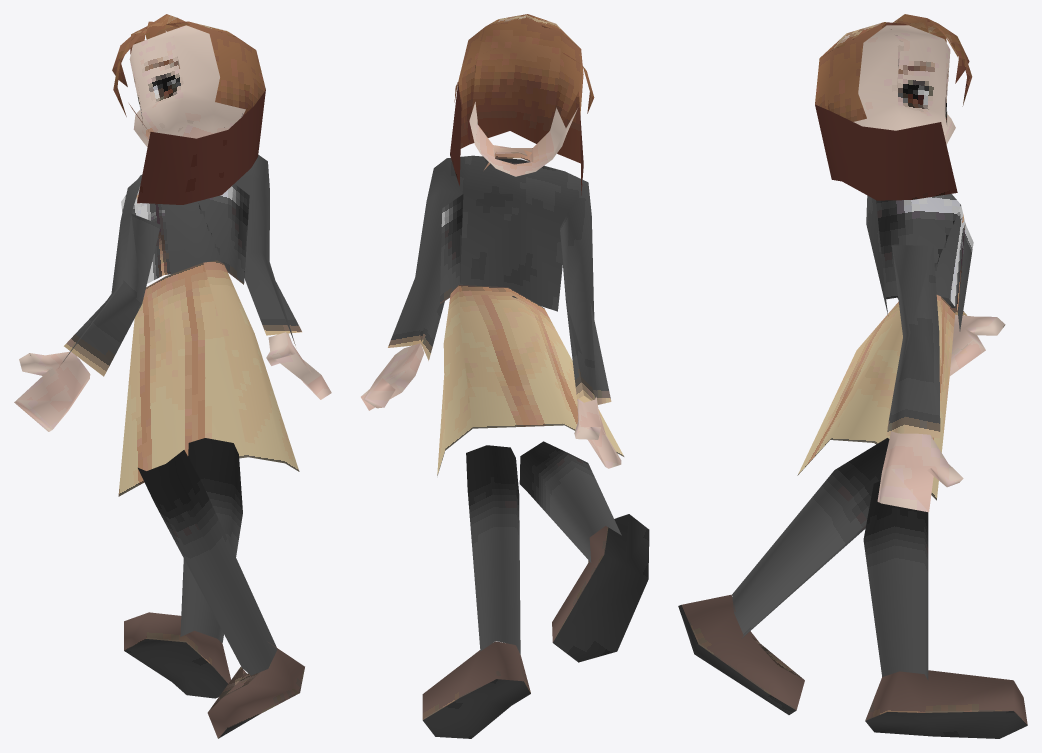
The model's file is ps2_save-icons_missingblue.glb.
3 views of the same model, side by side, from view 1: azimuth 30°, elevation 25°; view 2: azimuth 150°, elevation 25°; view 3: azimuth 270°, elevation 25° (orthographic). The views are drawn at different scales.
Parts seen in each view (by area): view 1: aqua.ico; view 2: aqua.ico; view 3: aqua.ico.
Boxes of the visible parts, x1,y1,x2,y2 form: aqua.ico: [14, 14, 331, 738]; aqua.ico: [361, 14, 649, 738]; aqua.ico: [678, 14, 1027, 738].
Size of the model in its own units: 1.96 by 4.37 by 2.02.
1 material, 1 textured.
